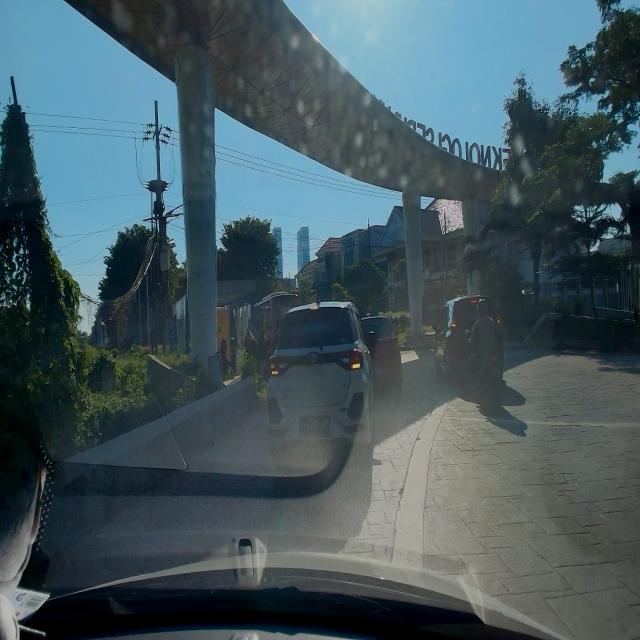car: (264, 297, 376, 470)
